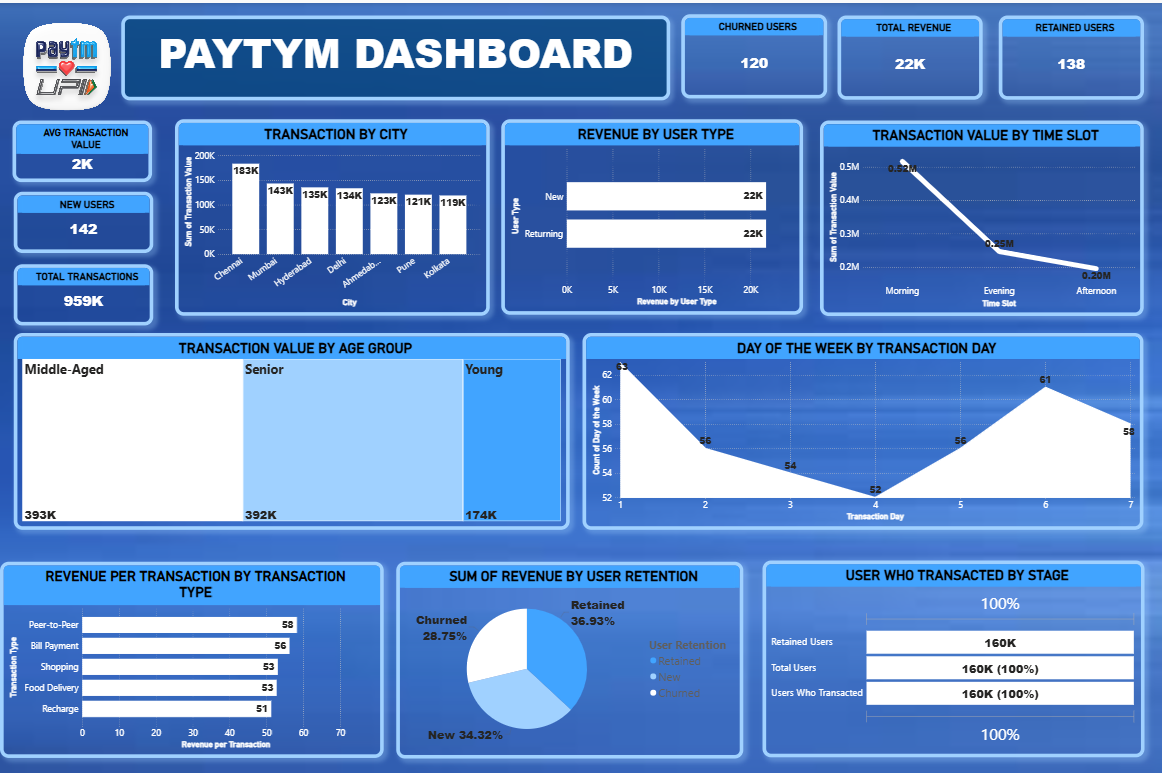

The page's visual inventory and layout, read from the dashboard file:
{"tool":"powerbi","page":{"name":"Page 1","canvas":[2800,1857],"ordinal":0},"visuals":[{"type":"image","box":[0,0,321.6,305.5],"z":0},{"type":"card","title":"TOTAL TRANSACTIONS","fields":{"Values":["Sum(Paytm.Transaction Value)"]},"box":[32.2,627.1,335,147.4],"z":1000},{"type":"card","title":"TOTAL REVENUE","fields":{"Values":["Sum(Paytm.Revenue)"]},"box":[2010.1,31.1,348.5,202.3],"z":2000},{"type":"card","title":"NEW USERS","fields":{"Values":["CountNonNull(Paytm.User Retention)"]},"box":[32.2,452.9,335,147.4],"z":3000},{"type":"card","title":"CHURNED USERS","fields":{"Values":["CountNonNull(Paytm.User Retention)"]},"box":[1636.7,28,350,202.3],"z":4000},{"type":"card","title":"RETAINED USERS","fields":{"Values":["CountNonNull(Paytm.User Retention)"]},"box":[2399.1,31.1,348.5,202.3],"z":5000},{"type":"columnChart","title":"TRANSACTION BY CITY","fields":{"Y":["Sum(Paytm.Transaction Value)"],"Category":["Paytm.City"]},"box":[420.8,278.7,755.8,471.7],"z":6000},{"type":"card","title":"AVG TRANSACTION VALUE","fields":{"Values":["Avg(Paytm.Transaction Value)"]},"box":[29.5,281.4,335,148],"z":7000},{"type":"treemap","title":"TRANSACTION VALUE BY AGE GROUP","fields":{"Group":["Paytm.Age Group"],"Values":["Sum(Paytm.Transaction Value)"]},"box":[34.2,793.5,1334.9,473],"z":8000},{"type":"barChart","title":"REVENUE BY USER TYPE","fields":{"Y":["Paytm.Revenue by User Type"],"Category":["Paytm.User Type"]},"box":[1204.2,280,725,469.9],"z":9000},{"type":"areaChart","title":"DAY OF THE WEEK BY TRANSACTION DAY","fields":{"Category":["Paytm.Transaction Day"],"Y":["CountNonNull(Paytm.Day of the Week)"]},"box":[1400.2,793.5,1347.3,473],"z":10000},{"type":"barChart","title":"REVENUE PER TRANSACTION  BY TRANSACTION TYPE","fields":{"Category":["Paytm.Transaction Type"],"Y":["Paytm.Revenue per Transaction"]},"box":[0,1340.5,921.6,471],"z":11000},{"type":"funnel","title":"USER WHO TRANSACTED BY STAGE","fields":{"Category":["User Funnel.Stage"],"Y":["Sum(User Funnel.Value)"]},"box":[1829.6,1338,917.9,473],"z":12000},{"type":"pieChart","title":"SUM OF REVENUE BY USER RETENTION","fields":{"Category":["Paytm.User Retention"],"Y":["Sum(Paytm.Revenue)"]},"box":[952.2,1341.1,833.9,473],"z":13000},{"type":"lineChart","title":"TRANSACTION VALUE BY TIME SLOT","fields":{"Category":["Paytm.Time Slot"],"Y":["Sum(Paytm.Transaction Value)"]},"box":[1969.7,283.2,777.9,469.9],"z":14000},{"type":"textbox","box":[292.1,29.5,1318.6,203.7],"z":15000}]}

Visuals, with their boxes in screenshot pixels (x1, y1, x2, y2), scaled from the page's 2800x1857 canvas onto the 1162x773 screenshot:
image: {"x1": 0, "y1": 0, "x2": 133, "y2": 127}
"TOTAL TRANSACTIONS" card: {"x1": 13, "y1": 261, "x2": 152, "y2": 322}
"TOTAL REVENUE" card: {"x1": 834, "y1": 13, "x2": 979, "y2": 97}
"NEW USERS" card: {"x1": 13, "y1": 189, "x2": 152, "y2": 250}
"CHURNED USERS" card: {"x1": 679, "y1": 12, "x2": 824, "y2": 96}
"RETAINED USERS" card: {"x1": 996, "y1": 13, "x2": 1140, "y2": 97}
"TRANSACTION BY CITY" columnChart: {"x1": 175, "y1": 116, "x2": 488, "y2": 312}
"AVG TRANSACTION VALUE" card: {"x1": 12, "y1": 117, "x2": 151, "y2": 179}
"TRANSACTION VALUE BY AGE GROUP" treemap: {"x1": 14, "y1": 330, "x2": 568, "y2": 527}
"REVENUE BY USER TYPE" barChart: {"x1": 500, "y1": 117, "x2": 801, "y2": 312}
"DAY OF THE WEEK BY TRANSACTION DAY" areaChart: {"x1": 581, "y1": 330, "x2": 1140, "y2": 527}
"REVENUE PER TRANSACTION  BY TRANSACTION TYPE" barChart: {"x1": 0, "y1": 558, "x2": 382, "y2": 754}
"USER WHO TRANSACTED BY STAGE" funnel: {"x1": 759, "y1": 557, "x2": 1140, "y2": 754}
"SUM OF REVENUE BY USER RETENTION" pieChart: {"x1": 395, "y1": 558, "x2": 741, "y2": 755}
"TRANSACTION VALUE BY TIME SLOT" lineChart: {"x1": 817, "y1": 118, "x2": 1140, "y2": 313}
textbox: {"x1": 121, "y1": 12, "x2": 668, "y2": 97}
